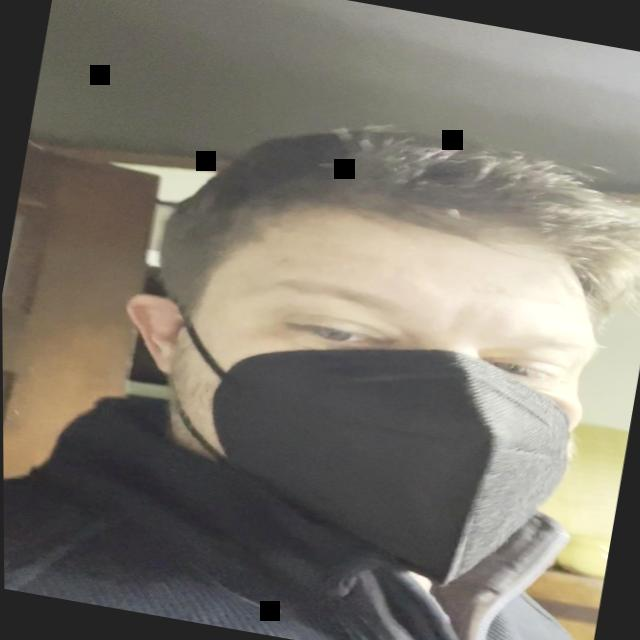Mask: (124, 166, 608, 589)
